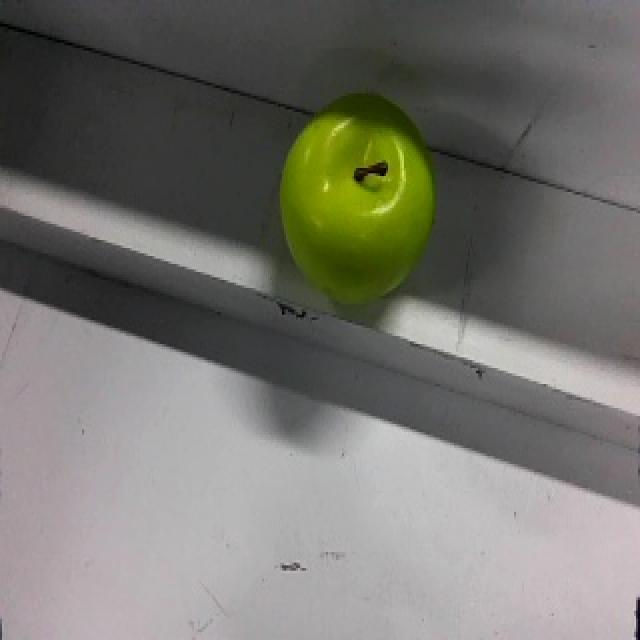apple: (276, 90, 438, 316)
